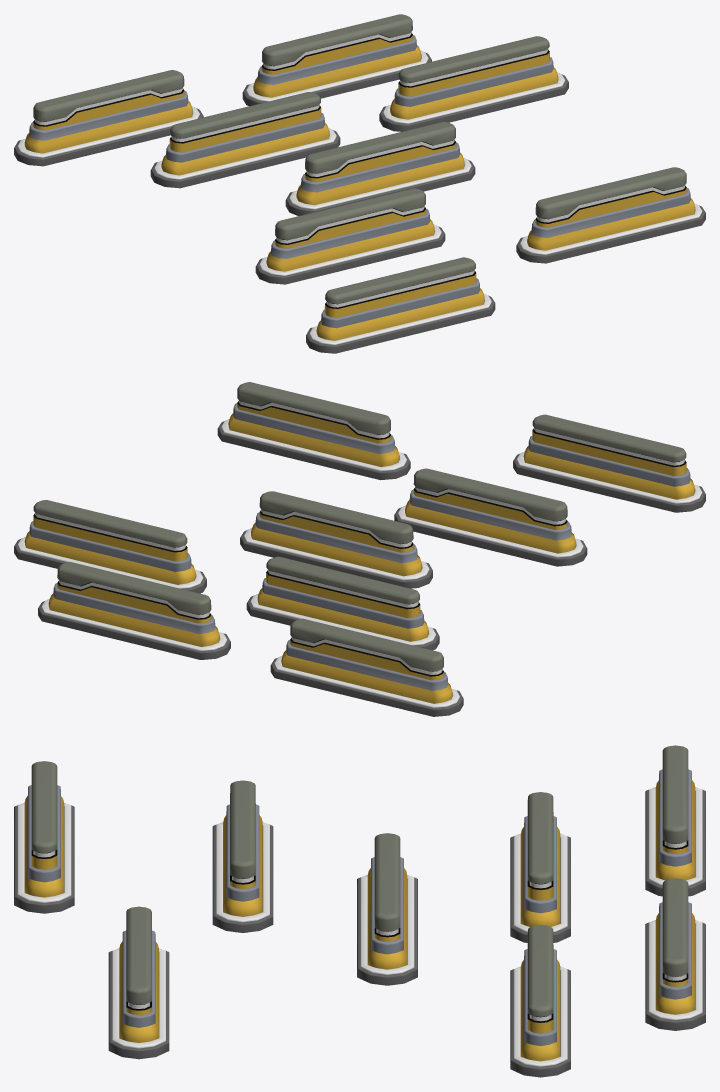
File: Bonus_Level2_Small_walls.fbx
The picture shows the model from 3 angles, top to bottom: view 1: azimuth 30°, elevation 25°; view 2: azimuth 150°, elevation 25°; view 3: azimuth 270°, elevation 25°; orthographic projection. The views are drawn at different scales.
Visible parts, largest first — view 1: Small_wallv1_14, Small_wallv2_11, Small_wallv1_15, Small_wallv2_9, Small_wallv2_10, Small_wallv1_12, Small_wallv1_16, Small_wallv1_13; view 2: Small_wallv2_11, Small_wallv1_12, Small_wallv1_13, Small_wallv1_14, Small_wallv1_15, Small_wallv1_16, Small_wallv2_9, Small_wallv2_10; view 3: Small_wallv1_14, Small_wallv1_15, Small_wallv2_11, Small_wallv1_16, Small_wallv2_10, Small_wallv1_13, Small_wallv1_12, Small_wallv2_9.
Boxes of the visible parts, bbox=[...] form: Small_wallv1_14: bbox=[516, 167, 705, 263]; Small_wallv2_11: bbox=[306, 257, 495, 353]; Small_wallv1_15: bbox=[255, 188, 445, 284]; Small_wallv2_9: bbox=[150, 92, 340, 188]; Small_wallv2_10: bbox=[379, 36, 568, 131]; Small_wallv1_12: bbox=[14, 70, 203, 166]; Small_wallv1_16: bbox=[285, 121, 475, 215]; Small_wallv1_13: bbox=[242, 14, 431, 106]; Small_wallv2_11: bbox=[513, 414, 705, 512]; Small_wallv1_12: bbox=[270, 618, 463, 716]; Small_wallv1_13: bbox=[38, 562, 230, 659]; Small_wallv1_14: bbox=[217, 382, 410, 480]; Small_wallv1_15: bbox=[394, 468, 587, 566]; Small_wallv1_16: bbox=[240, 491, 432, 588]; Small_wallv2_9: bbox=[246, 556, 439, 650]; Small_wallv2_10: bbox=[14, 500, 206, 593]; Small_wallv1_14: bbox=[108, 906, 169, 1059]; Small_wallv1_15: bbox=[212, 780, 273, 932]; Small_wallv2_11: bbox=[14, 761, 74, 913]; Small_wallv1_16: bbox=[357, 833, 417, 985]; Small_wallv2_10: bbox=[510, 925, 570, 1077]; Small_wallv1_13: bbox=[645, 878, 705, 1030]; Small_wallv1_12: bbox=[645, 745, 705, 896]; Small_wallv2_9: bbox=[510, 792, 570, 942].
Size of the model in its own units: 382 by 37.08 by 392.
